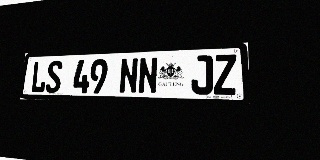4: (72, 59, 91, 93)
9: (89, 59, 108, 94)
J: (191, 55, 213, 95)
L: (30, 61, 48, 93)
N: (138, 57, 158, 94), (119, 58, 139, 94)
S: (45, 60, 63, 93)
Z: (214, 54, 237, 95)
